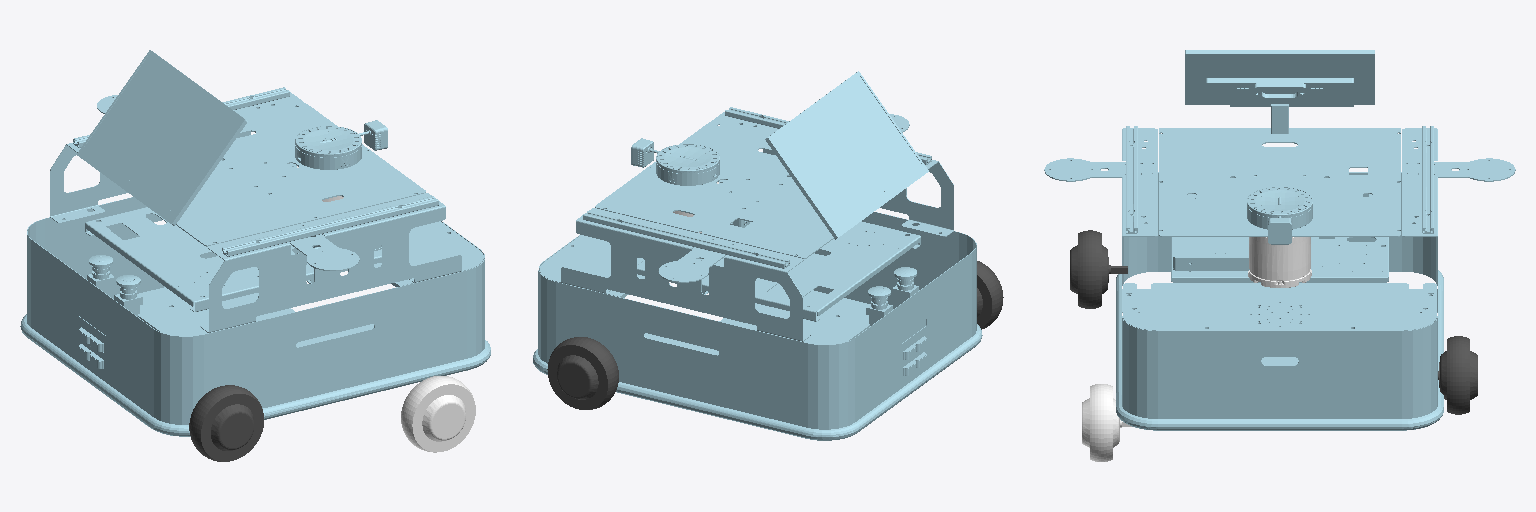
URDF robot description (lucsys_lsr200):
<?xml version="1.0" encoding="utf-8"?>
<robot name="lucsys_lsr200">
  <link name="base_link">
    <inertial>
      <origin xyz="-0.016206 -0.0010825 0.092969" rpy="0 0 0" />
      <mass value="14.207" />
      <inertia ixx="0.10104" ixy="-2.6991E-06" ixz="0.003759" iyy="0.11424" iyz="-3.6837E-07" izz="0.1932" />
    </inertial>
    <visual>
      <origin xyz="0 0 0" rpy="0 0 0" />
      <geometry>
        <mesh filename="package://lucsys_lsr200_description/meshes/lsr200/base_link.STL" />
      </geometry>
      <material name="lucsys_material_0">
        <color rgba="0.74118 0.90196 0.95686 1" />
      </material>
    </visual>
    <collision>
      <origin xyz="0 0 0" rpy="0 0 0" />
      <geometry>
        <mesh filename="package://lucsys_lsr200_description/meshes/lsr200/base_link.STL" />
      </geometry>
    </collision>
  </link>
  <link name="lf_wheel_link">
    <inertial>
      <origin xyz="2.03025299216897E-06 -0.00255430637953435 1.11957556449271E-06" rpy="0 0 0" />
      <mass value="4.22677688742038" />
      <inertia ixx="0.0128745482693846" ixy="2.34294944693532E-07" ixz="-2.21201534413637E-07" iyy="0.0234566776208689" iyz="1.12608656459029E-07" izz="0.0128742349792154" />
    </inertial>
    <visual>
      <origin xyz="0 0 0" rpy="0 0 0" />
      <geometry>
        <mesh filename="package://lucsys_lsr200_description/meshes/lsr200/lf_wheel_link.STL" />
      </geometry>
      <material name="lucsys_material_1">
        <color rgba="0.376470588235294 0.376470588235294 0.376470588235294 1" />
      </material>
    </visual>
    <collision>
      <origin xyz="0 0 0" rpy="0 0 0" />
      <geometry>
        <mesh filename="package://lucsys_lsr200_description/meshes/lsr200/lf_wheel_link.STL" />
      </geometry>
    </collision>
  </link>
  <joint name="lf_wheel_joint" type="continuous">
    <origin xyz="0.176 0.2942 0.037" rpy="0 0 0" />
    <parent link="base_link" />
    <child link="lf_wheel_link" />
    <axis xyz="0 -1 0" />
  </joint>
  <link name="lb_wheel_link">
    <inertial>
      <origin xyz="2.03028339690325E-06 -0.00255430637366949 1.11958036466686E-06" rpy="0 0 0" />
      <mass value="4.22677688726581" />
      <inertia ixx="0.0128745482672668" ixy="2.34290640137925E-07" ixz="-2.21206248203381E-07" iyy="0.0234566776269041" iyz="1.12609984464062E-07" izz="0.0128742349819977" />
    </inertial>
    <visual>
      <origin xyz="0 0 0" rpy="0 0 0" />
      <geometry>
        <mesh filename="package://lucsys_lsr200_description/meshes/lsr200/lb_wheel_link.STL" />
      </geometry>
      <material name="lucsys_material_2">
        <color rgba="0.376470588235294 0.376470588235294 0.376470588235294 1" />
      </material>
    </visual>
    <collision>
      <origin xyz="0 0 0" rpy="0 0 0" />
      <geometry>
        <mesh filename="package://lucsys_lsr200_description/meshes/lsr200/lb_wheel_link.STL" />
      </geometry>
    </collision>
  </link>
  <joint name="lb_wheel_joint" type="continuous">
    <origin xyz="-0.176 0.2942 0.037" rpy="0 0 0" />
    <parent link="base_link" />
    <child link="lb_wheel_link" />
    <axis xyz="0 1 0" />
  </joint>
  <link name="rb_wheel_link">
    <inertial>
      <origin xyz="-2.03025053793771E-06 0.00255430638376514 1.11959551427065E-06" rpy="0 0 0" />
      <mass value="4.22677688710044" />
      <inertia ixx="0.0128745482664965" ixy="2.34292993486149E-07" ixz="2.21206306337363E-07" iyy="0.0234566776159247" iyz="-1.12606022789872E-07" izz="0.0128742349795734" />
    </inertial>
    <visual>
      <origin xyz="0 0 0" rpy="0 0 0" />
      <geometry>
        <mesh filename="package://lucsys_lsr200_description/meshes/lsr200/rb_wheel_link.STL" />
      </geometry>
      <material name="lucsys_material_3">
        <color rgba="0.376470588235294 0.376470588235294 0.376470588235294 1" />
      </material>
    </visual>
    <collision>
      <origin xyz="0 0 0" rpy="0 0 0" />
      <geometry>
        <mesh filename="package://lucsys_lsr200_description/meshes/lsr200/rb_wheel_link.STL" />
      </geometry>
    </collision>
  </link>
  <joint name="rb_wheel_joint" type="continuous">
    <origin xyz="-0.176 -0.2942 0.037" rpy="0 0 0" />
    <parent link="base_link" />
    <child link="rb_wheel_link" />
    <axis xyz="0 1 0" />
  </joint>
  <link name="rf_wheel_link">
    <inertial>
      <origin xyz="-2.03026411582652E-06 0.0025543063821386 1.11958347789876E-06" rpy="0 0 0" />
      <mass value="4.22677688662636" />
      <inertia ixx="0.0128745482674725" ixy="2.34292573041892E-07" ixz="2.21209215923611E-07" iyy="0.0234566776170174" iyz="-1.12607454980067E-07" izz="0.0128742349767339" />
    </inertial>
    <visual>
      <origin xyz="0 0 0" rpy="0 0 0" />
      <geometry>
        <mesh filename="package://lucsys_lsr200_description/meshes/lsr200/rf_wheel_link.STL" />
      </geometry>
      <material name="lucsys_material_4">
        <color rgba="1 1 1 1" />
      </material>
    </visual>
    <collision>
      <origin xyz="0 0 0" rpy="0 0 0" />
      <geometry>
        <mesh filename="package://lucsys_lsr200_description/meshes/lsr200/rf_wheel_link.STL" />
      </geometry>
    </collision>
  </link>
  <joint name="rf_wheel_joint" type="continuous">
    <origin xyz="0.176 -0.2942 0.037" rpy="0 0 0" />
    <parent link="base_link" />
    <child link="rf_wheel_link" />
    <axis xyz="0 -1 0" />
  </joint>
  <link name="laser_link">
    <inertial>
      <origin xyz="-0.00426716639563601 6.84539252776687E-05 -0.0217512821660333" rpy="0 0 0" />
      <mass value="0.208180628354359" />
      <inertia ixx="0.000181169417419149" ixy="2.42714579674567E-07" ixz="-2.21590809978492E-06" iyy="0.000183115154714863" iyz="-1.46637875418305E-10" izz="0.000283237424426079" />
    </inertial>
    <visual>
      <origin xyz="0 0 0" rpy="0 0 0" />
      <geometry>
        <mesh filename="package://lucsys_lsr200_description/meshes/lsr200/laser_link.STL" />
      </geometry>
      <material name="lucsys_material_5">
        <color rgba="1 1 1 1" />
      </material>
    </visual>
    <collision>
      <origin xyz="0 0 0" rpy="0 0 0" />
      <geometry>
        <mesh filename="package://lucsys_lsr200_description/meshes/lsr200/laser_link.STL" />
      </geometry>
    </collision>
  </link>
  <joint name="laser_joint" type="fixed">
    <origin xyz="0.13497 0 0.27685" rpy="0 0 0" />
    <parent link="base_link" />
    <child link="laser_link" />
    <axis xyz="0 0 0" />
  </joint>
  <link name="camera_link">
    <inertial>
      <origin xyz="-4.27512277800801E-08 -3.48614238900551E-07 1.07624279654939E-07" rpy="0 0 0" />
      <mass value="0.0559842512079177" />
      <inertia ixx="0.000130810959339546" ixy="1.20255128161466E-07" ixz="1.62335437077394E-06" iyy="1.91148634967998E-05" iyz="-2.80016757087285E-08" izz="0.000131387469523378" />
    </inertial>
    <visual>
      <origin xyz="0 0 0" rpy="0 0 0" />
      <geometry>
        <mesh filename="package://lucsys_lsr200_description/meshes/lsr200/camera_link.STL" />
      </geometry>
      <material name="lucsys_material_6">
        <color rgba="1 1 1 1" />
      </material>
    </visual>
    <collision>
      <origin xyz="0 0 0" rpy="0 0 0" />
      <geometry>
        <mesh filename="package://lucsys_lsr200_description/meshes/lsr200/camera_link.STL" />
      </geometry>
    </collision>
  </link>
  <joint name="camera_joint" type="fixed">
    <origin xyz="0.26369 7.6608E-05 0.1609" rpy="0 0 0" />
    <parent link="base_link" />
    <child link="camera_link" />
    <axis xyz="0 0 0" />
  </joint>
  <link name="controller_link">
    <inertial>
      <origin xyz="-0.00127624223722557 -0.0334480323864673 -0.0673279565746838" rpy="0 0 0" />
      <mass value="35.4980985916106" />
      <inertia ixx="2.51320479627268" ixy="0.00157755863640966" ixz="0.162118929836414" iyy="1.54042133085261" iyz="0.000933314658534922" izz="3.01103427004607" />
    </inertial>
    <visual>
      <origin xyz="0 0 0" rpy="0 0 0" />
      <geometry>
        <mesh filename="package://lucsys_lsr200_description/meshes/lsr200/controller_link.STL" />
      </geometry>
      <material name="lucsys_material_7">
        <color rgba="0.741176470588235 0.901960784313726 0.956862745098039 1" />
      </material>
    </visual>
    <collision>
      <origin xyz="0 0 0" rpy="0 0 0" />
      <geometry>
        <mesh filename="package://lucsys_lsr200_description/meshes/lsr200/controller_link.STL" />
      </geometry>
    </collision>
  </link>
  <joint name="controller_joint" type="fixed">
    <origin xyz="-0.015598 0.033015 0.16714" rpy="0 0 0" />
    <parent link="base_link" />
    <child link="controller_link" />
    <axis xyz="0 0 0" />
  </joint>
  <link name="mushroom_link">
    <inertial>
      <origin xyz="4.30945321739234E-05 5.55513364533208E-06 -0.0267258363377572" rpy="0 0 0" />
      <mass value="1.34257308471974" />
      <inertia ixx="0.00297305626747407" ixy="-3.17441258533751E-10" ixz="1.25149417002335E-06" iyy="0.00297542721381813" iyz="2.73871802442308E-07" izz="0.00503685865030063" />
    </inertial>
    <visual>
      <origin xyz="0 0 0" rpy="0 0 0" />
      <geometry>
        <mesh filename="package://lucsys_lsr200_description/meshes/lsr200/mushroom_link.STL" />
      </geometry>
      <material name="lucsys_material_8">
        <color rgba="0.741176470588235 0.901960784313726 0.956862745098039 1" />
      </material>
    </visual>
    <collision>
      <origin xyz="0 0 0" rpy="0 0 0" />
      <geometry>
        <mesh filename="package://lucsys_lsr200_description/meshes/lsr200/mushroom_link.STL" />
      </geometry>
    </collision>
  </link>
  <joint name="mushroom_joint" type="fixed">
    <origin xyz="-0.07094 0 0.45681" rpy="0 0 0" />
    <parent link="base_link" />
    <child link="mushroom_link" />
    <axis xyz="0 0 0" />
  </joint>
</robot>

--- What the picture shows (computed from the rendered views, not written in the file) ---
The picture shows the robot from 3 angles, left to right: view 1: azimuth 30°, elevation 25°; view 2: azimuth 150°, elevation 25°; view 3: azimuth 270°, elevation 25°; orthographic projection.
Robot: lucsys_lsr200 — 9 links, 8 joints (4 continuous, 4 fixed); root link base_link; default pose: all joints at 0.
Visible links, largest first — view 1: base_link, rb_wheel_link, rf_wheel_link; view 2: base_link, lf_wheel_link, rb_wheel_link; view 3: base_link, laser_link, rb_wheel_link, lf_wheel_link, rf_wheel_link.
Link boxes in pixels (x1=…): base_link: x1=20, y1=50, x2=490, y2=436; rb_wheel_link: x1=189, y1=385, x2=263, y2=461; rf_wheel_link: x1=401, y1=376, x2=475, y2=452; base_link: x1=533, y1=71, x2=982, y2=440; lf_wheel_link: x1=547, y1=337, x2=618, y2=409; rb_wheel_link: x1=977, y1=261, x2=1003, y2=329; base_link: x1=1044, y1=50, x2=1515, y2=430; laser_link: x1=1248, y1=237, x2=1311, y2=287; rb_wheel_link: x1=1070, y1=230, x2=1127, y2=308; lf_wheel_link: x1=1438, y1=336, x2=1477, y2=414; rf_wheel_link: x1=1082, y1=384, x2=1131, y2=461.
Size in the robot's own frame: 0.64 by 0.7764 by 0.6104 metres.
Meshes: 9 distinct files referenced, 5 mesh visuals loaded (5 binary STL); not drawn: 4 (reference not matched to a file when rendering).
